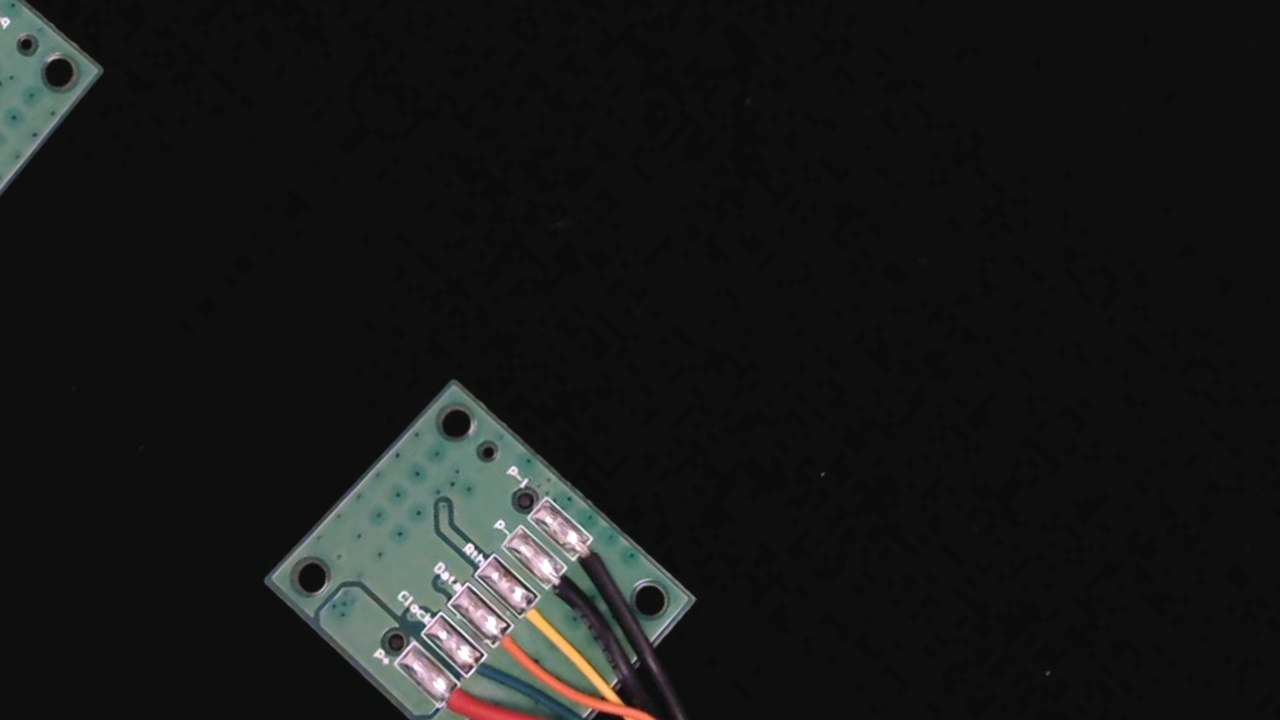Black: (533, 557, 604, 624)
Black1: (559, 523, 632, 593)
Green: (451, 641, 519, 705)
Orange: (478, 613, 553, 685)
Red: (424, 671, 489, 720)
Yellow: (504, 583, 583, 657)
